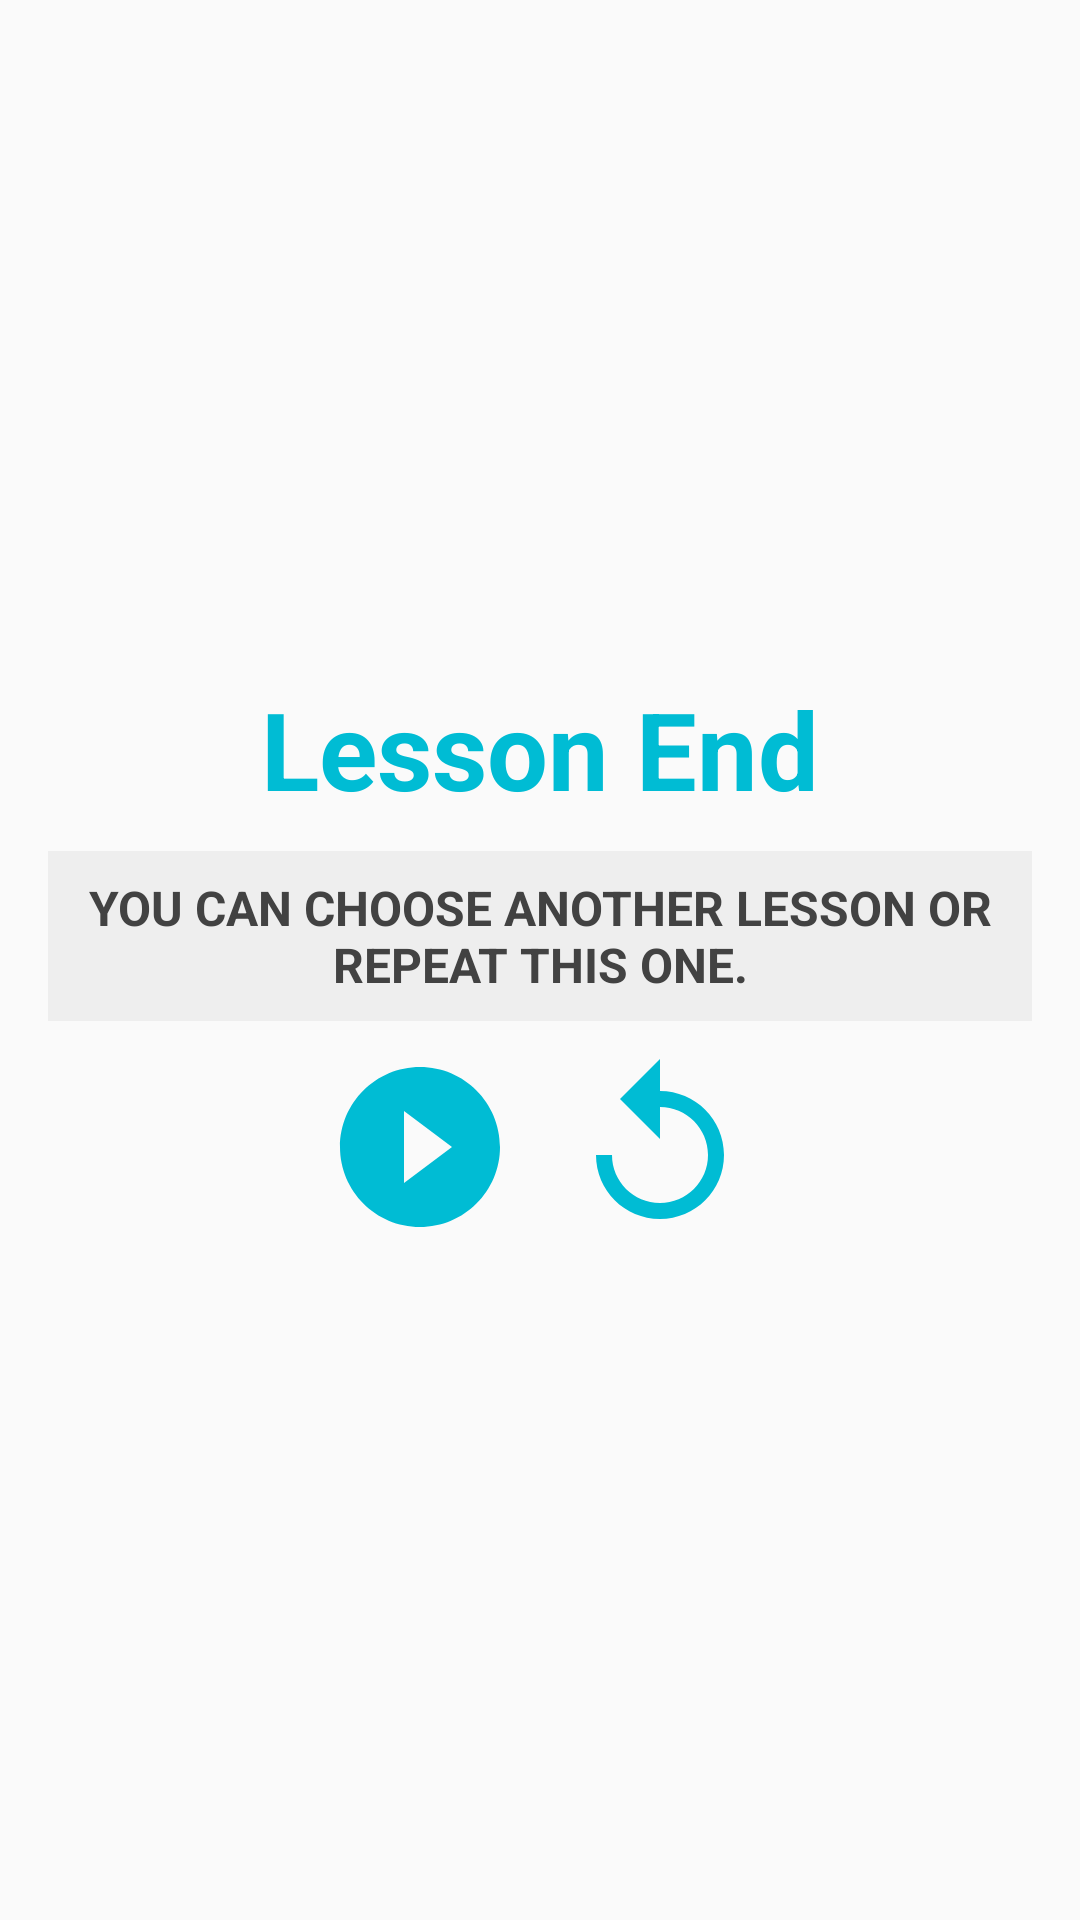

Locate icon controls on the screen. Image size 1080 × 1920, boxes as box=[x1, y1, x2, y2].
play: box=[339, 1067, 500, 1227]
replay: box=[596, 1059, 724, 1219]
